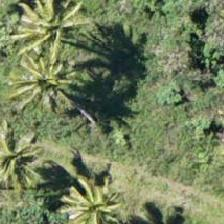coconut_tree: (4, 36, 94, 126), (3, 0, 93, 63), (41, 163, 131, 223), (44, 167, 134, 223), (0, 114, 48, 204), (0, 115, 46, 205)
